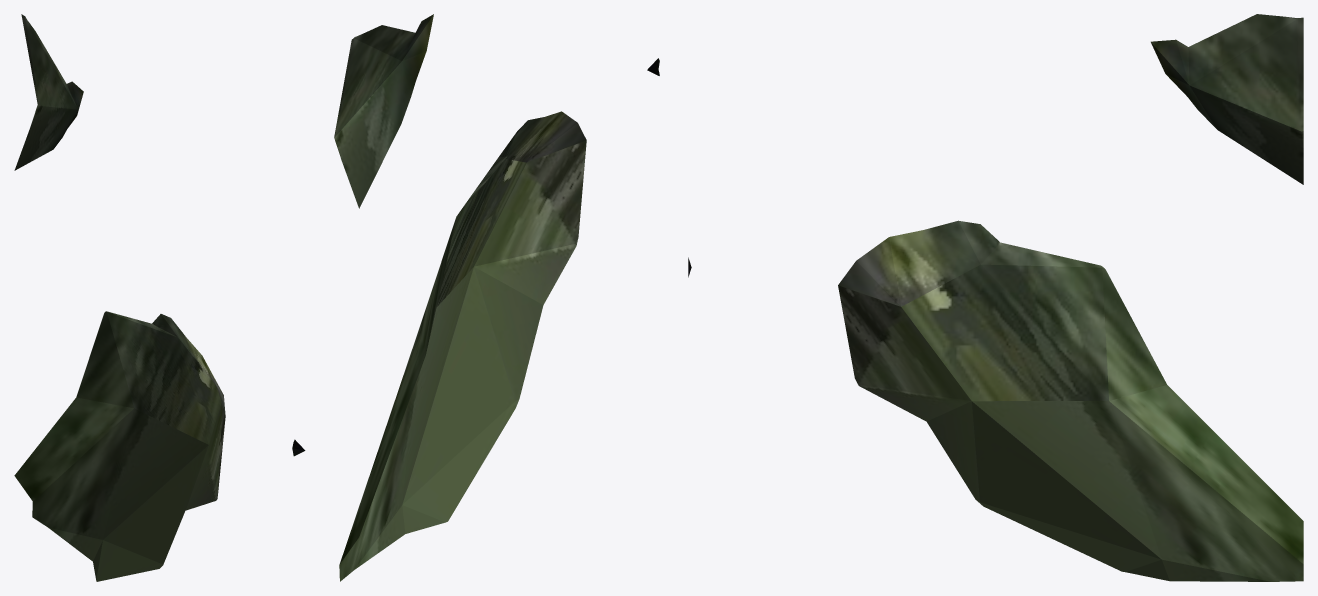
The picture shows the model from 3 angles, left to right: view 1: azimuth 30°, elevation 25°; view 2: azimuth 150°, elevation 25°; view 3: azimuth 270°, elevation 25°; orthographic projection. The views are drawn at different scales.
Bounding box in the file's own units: 0.2681 × 2.95 × 2.95.
Materials: 1 (1 with a texture image).
